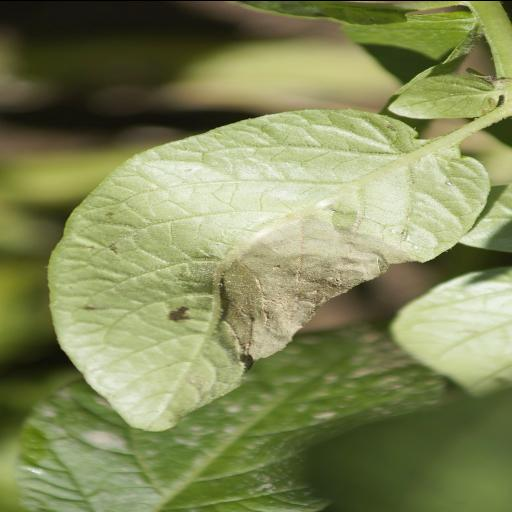disease_tomato: (41, 104, 488, 432)
